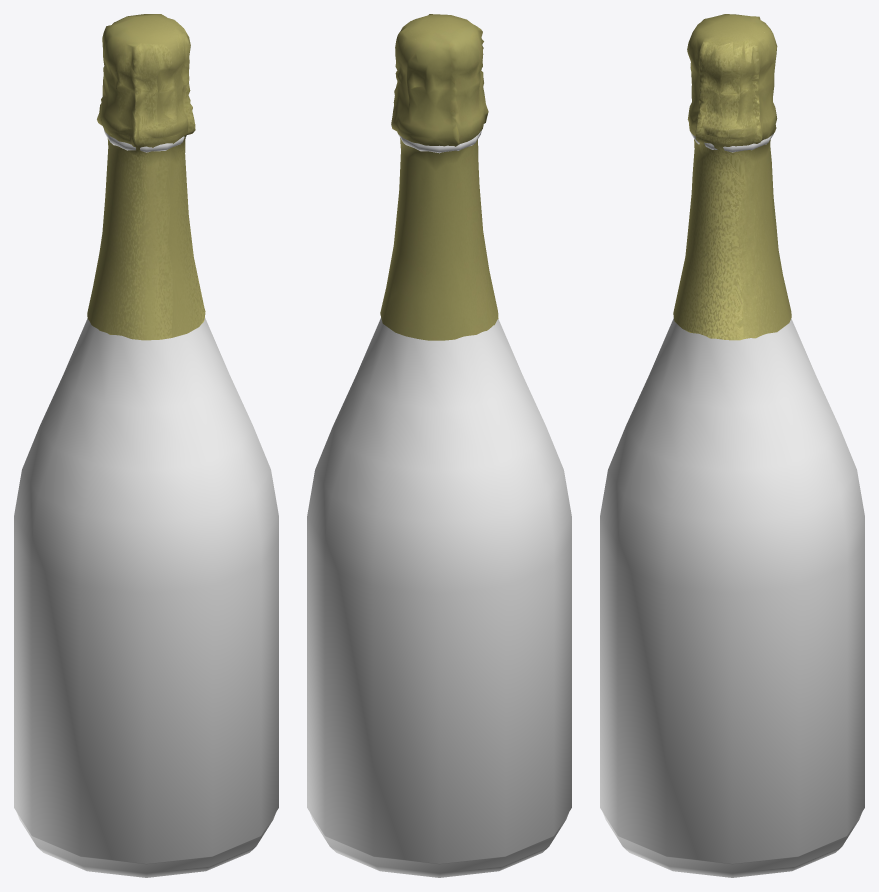
File: champagne.glb
The picture shows the model from 3 angles, left to right: view 1: azimuth 30°, elevation 25°; view 2: azimuth 150°, elevation 25°; view 3: azimuth 270°, elevation 25°; orthographic projection.
Parts seen in each view (by area): view 1: ch_bottle, ch_foil_H; view 2: ch_bottle, ch_foil_H; view 3: ch_bottle, ch_foil_H.
Part boxes in pixels (box(x1,y1,x2,y2)): ch_bottle: box(14, 129, 278, 877); ch_foil_H: box(87, 14, 205, 340); ch_bottle: box(307, 130, 571, 877); ch_foil_H: box(380, 14, 498, 340); ch_bottle: box(600, 132, 864, 877); ch_foil_H: box(673, 14, 791, 340).
Size of the model in its own units: 0.1736 by 0.5848 by 0.1736.
3 materials, 1 textured.
